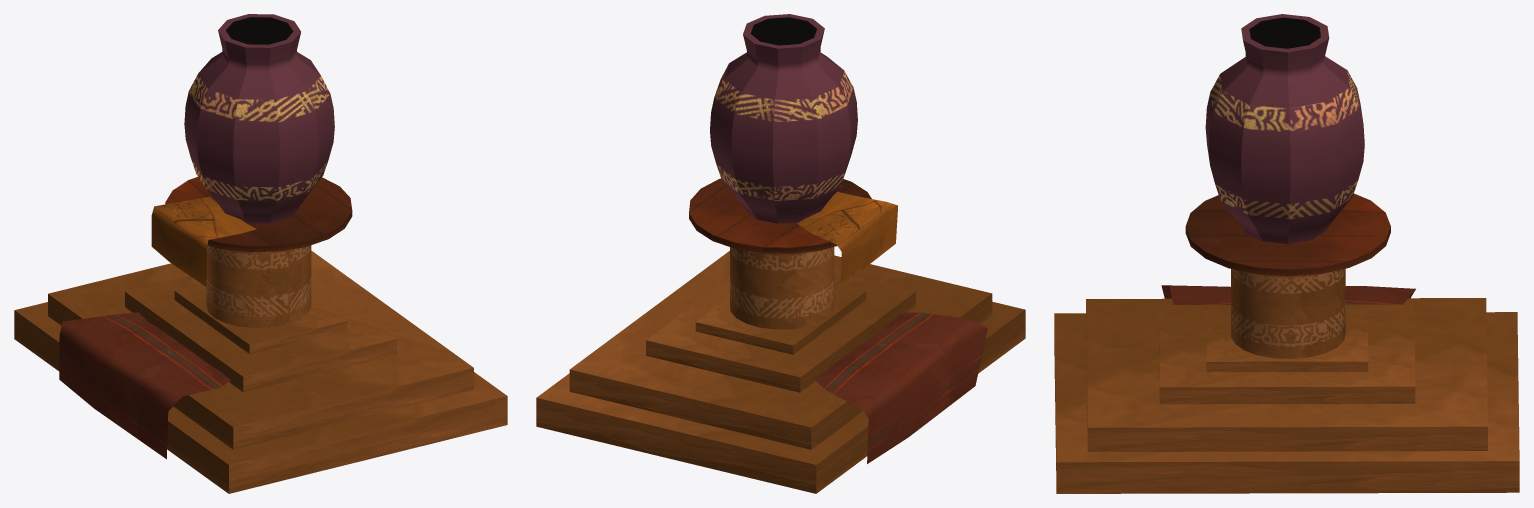
The model's file is monument.fbx.
3 renders of one model, left to right at view 1: azimuth 30°, elevation 25°; view 2: azimuth 150°, elevation 25°; view 3: azimuth 270°, elevation 25°, orthographic. The views are drawn at different scales.
Visible parts, largest first — view 1: polySurface739, polySurface744, polySurface745, polySurface746, polySurface743, polySurface741, polySurface740, polySurface738, polySurface742; view 2: polySurface739, polySurface744, polySurface745, polySurface746, polySurface743, polySurface741, polySurface740, polySurface738, polySurface742; view 3: polySurface744, polySurface745, polySurface739, polySurface743, polySurface740, polySurface741, polySurface742, polySurface746.
Boxes of the visible parts, <box> form: polySurface739: <box>184,14,334,223</box>; polySurface744: <box>48,250,473,449</box>; polySurface745: <box>14,302,507,493</box>; polySurface746: <box>59,312,230,459</box>; polySurface743: <box>125,275,396,392</box>; polySurface741: <box>206,245,311,327</box>; polySurface740: <box>165,177,352,252</box>; polySurface738: <box>151,197,256,286</box>; polySurface742: <box>174,284,347,354</box>; polySurface739: <box>710,14,857,223</box>; polySurface744: <box>569,251,992,449</box>; polySurface745: <box>536,301,1025,493</box>; polySurface746: <box>813,312,987,463</box>; polySurface743: <box>646,272,915,392</box>; polySurface741: <box>730,247,834,329</box>; polySurface740: <box>689,178,871,253</box>; polySurface738: <box>797,191,897,283</box>; polySurface742: <box>695,283,866,354</box>; polySurface744: <box>1086,298,1487,451</box>; polySurface745: <box>1054,312,1519,493</box>; polySurface739: <box>1205,14,1364,243</box>; polySurface743: <box>1158,304,1415,404</box>; polySurface740: <box>1185,193,1390,276</box>; polySurface741: <box>1231,268,1345,358</box>; polySurface742: <box>1205,309,1368,372</box>; polySurface746: <box>1161,285,1415,304</box>.
Size of the model in its own units: 7.32 by 8.59 by 9.29.
